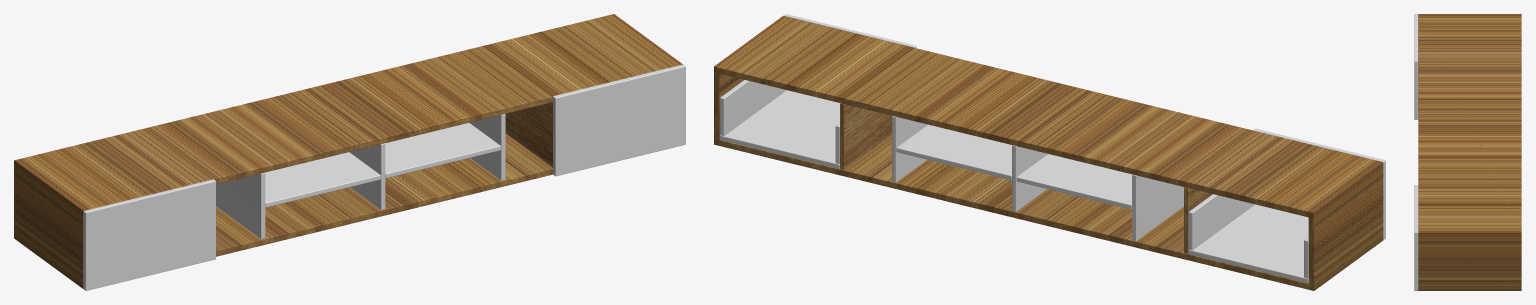
The model's file is TV_cabinet.fbx.
3 renders of one model, left to right at view 1: azimuth 30°, elevation 25°; view 2: azimuth 150°, elevation 25°; view 3: azimuth 270°, elevation 25°, orthographic. The views are drawn at different scales.
Visible parts, largest first — view 1: Plane; view 2: Plane; view 3: Plane.
Boxes of the visible parts, box(x1,y1,x2,y2) form: Plane: box(14, 14, 685, 290); Plane: box(714, 14, 1385, 290); Plane: box(1414, 14, 1521, 290).
Size of the model in its own units: 200 by 25 by 41.5.
Materials: 2 (1 with a texture image).
